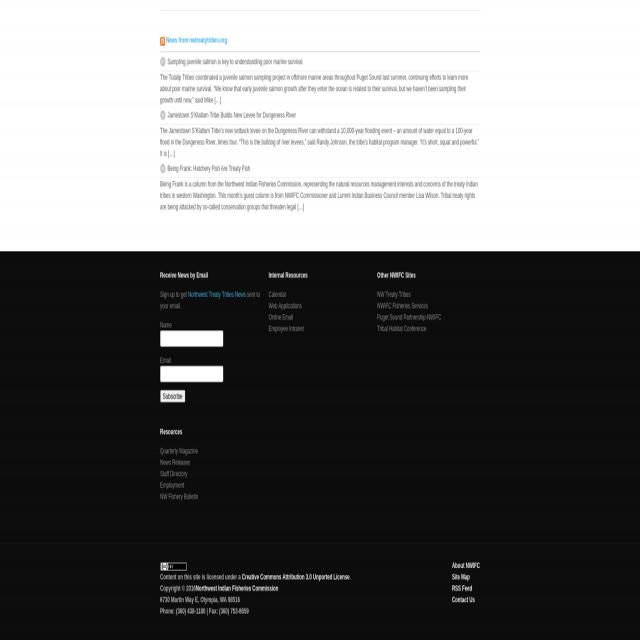button: (160, 390, 185, 402), (160, 562, 187, 571), (160, 38, 165, 46)
field: (160, 366, 223, 382), (160, 331, 223, 346)
